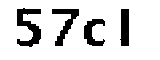5: (12, 6, 45, 50)
7: (49, 7, 75, 49)
I: (114, 3, 138, 52)
c: (81, 15, 109, 48)
